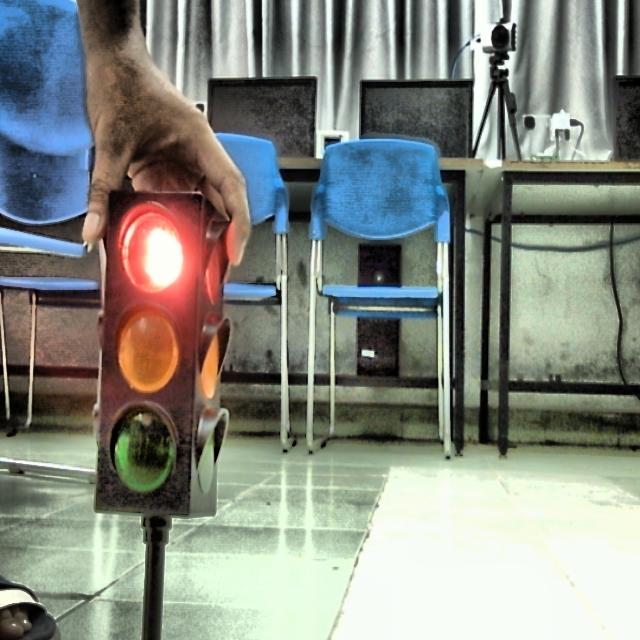red: (111, 195, 192, 298)
